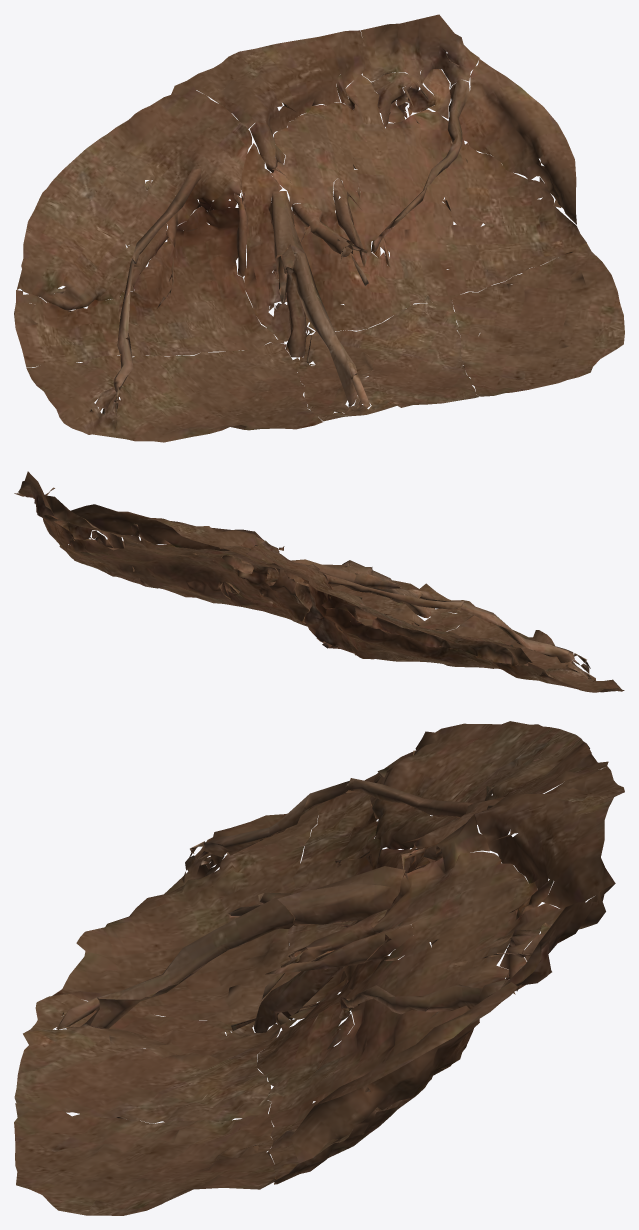
Rendered from root_cluster_01.glb.
3 views of the same model, one above another, from view 1: azimuth 30°, elevation 25°; view 2: azimuth 150°, elevation 25°; view 3: azimuth 270°, elevation 25° (orthographic). The views are drawn at different scales.
Visible parts, largest first — view 1: root_cluster_01; view 2: root_cluster_01; view 3: root_cluster_01.
Boxes of the visible parts, bbox=[...] form: root_cluster_01: bbox=[14, 14, 624, 442]; root_cluster_01: bbox=[14, 471, 624, 692]; root_cluster_01: bbox=[14, 721, 624, 1215].
Size of the model in its own units: 4.12 by 1.5 by 2.68.
1 material, 1 textured.
